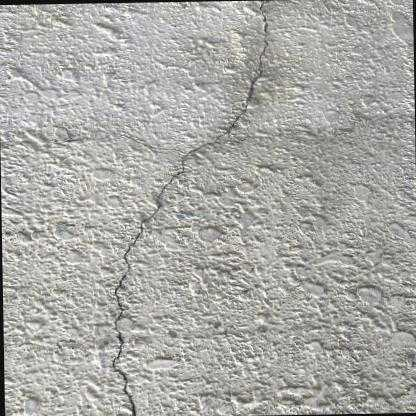crack: (110, 0, 270, 416)
